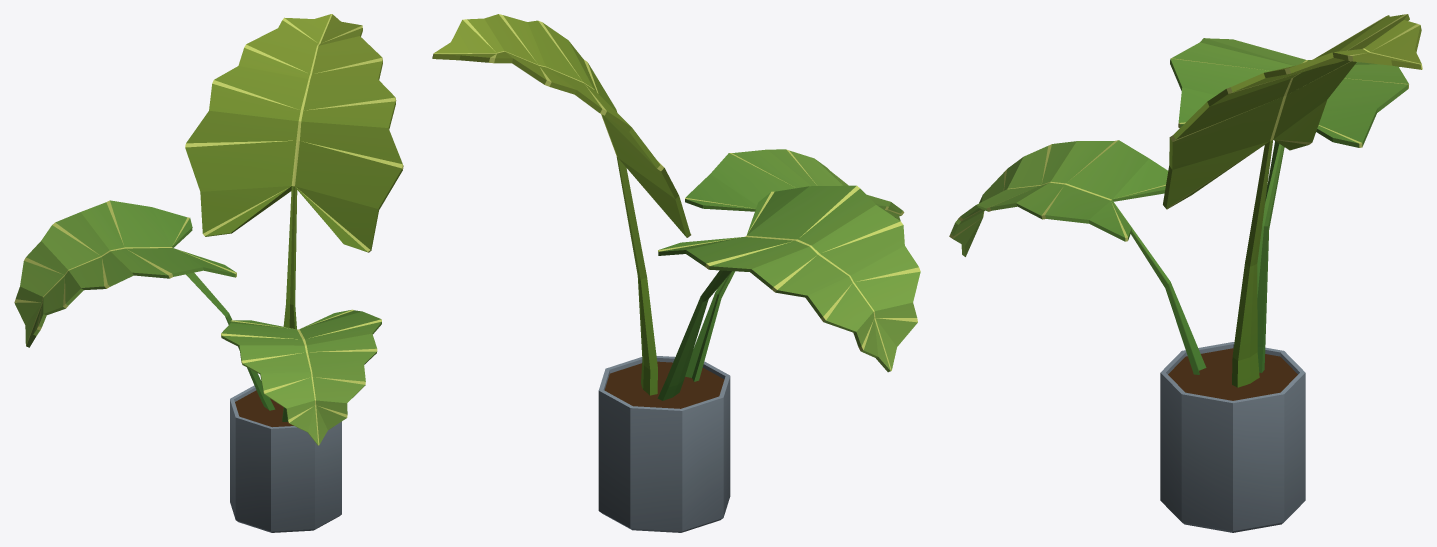
Rendered from Flowerbed_05.fbx.
3 views of the same model, side by side, from view 1: azimuth 30°, elevation 25°; view 2: azimuth 150°, elevation 25°; view 3: azimuth 270°, elevation 25° (orthographic). The views are drawn at different scales.
Visible parts, largest first — view 1: Flowerbed_05; view 2: Flowerbed_05; view 3: Flowerbed_05.
Boxes of the visible parts, x1,y1,x2,y2 form: Flowerbed_05: (14, 14, 403, 532); Flowerbed_05: (432, 14, 920, 532); Flowerbed_05: (949, 14, 1422, 532).
Size of the model in its own units: 195 by 219 by 180.
